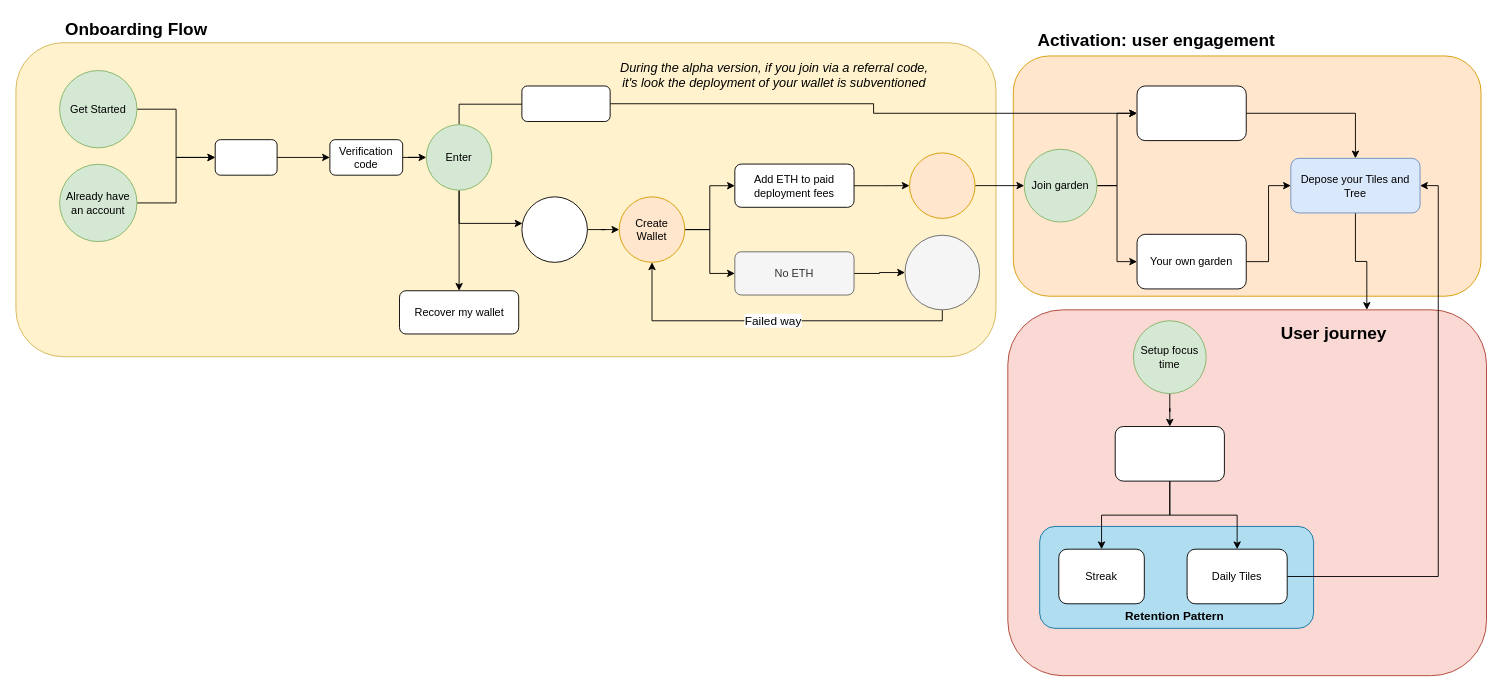
This 1502x692 diagram has some shape labels left out. Each missing label, with the centre of its shape:
Can't Deploy: pixel 942 272
Community Garden: pixel 1191 113
Deploy: pixel 942 185
Email: pixel 245 157
Invite code: pixel 565 103
Launch Focus Session: pixel 1169 453
Skip: pixel 554 229
